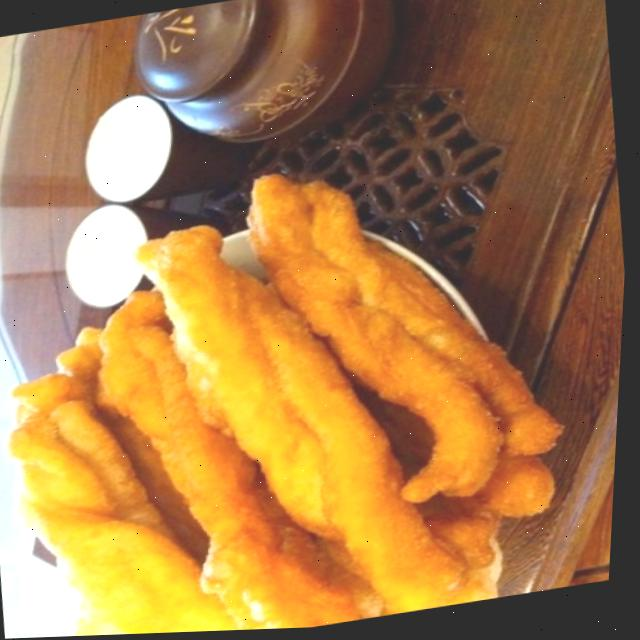炸货点心: (0, 126, 613, 640)
